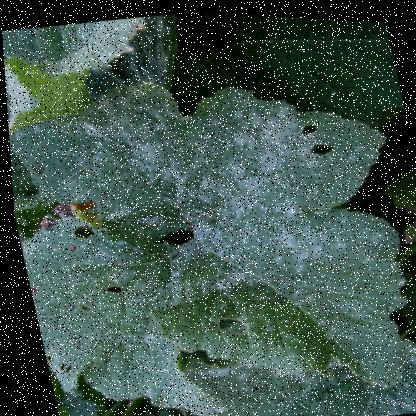PowderyMildew: (172, 92, 333, 287)
